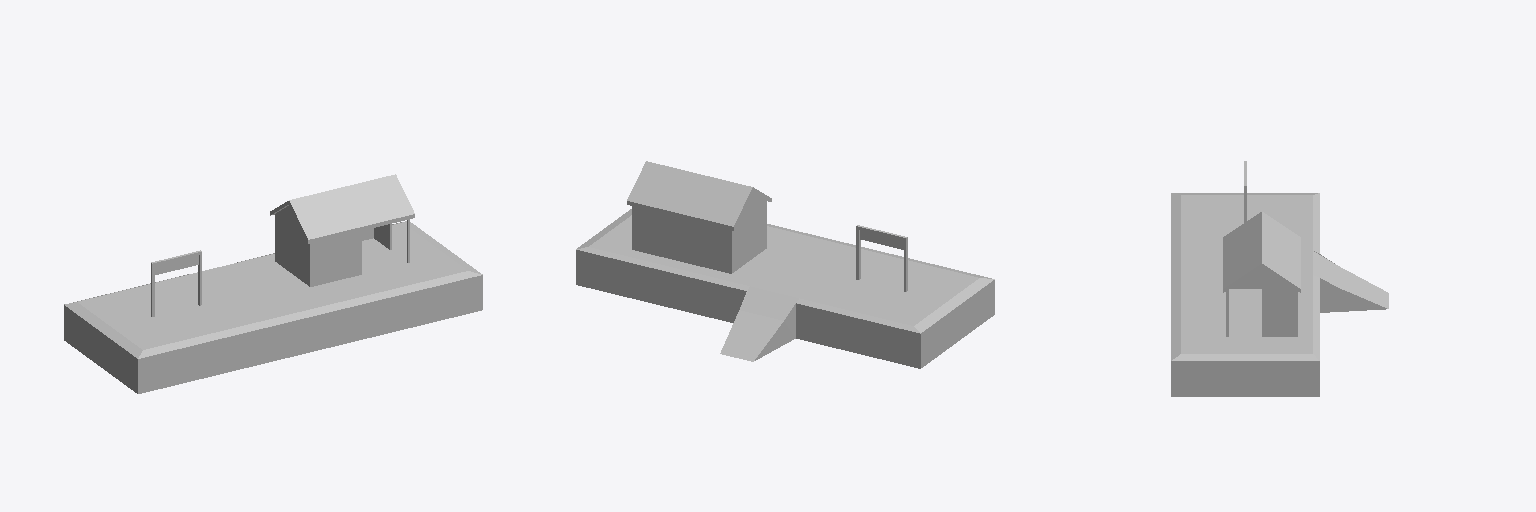
The model's file is platform_1.obj.
The picture shows the model from 3 angles: view 1: azimuth 30°, elevation 25°; view 2: azimuth 150°, elevation 25°; view 3: azimuth 270°, elevation 25°; orthographic projection.
Parts seen in each view (by area): view 1: platform_1; view 2: platform_1; view 3: platform_1.
Boxes of the visible parts, box(x1,y1,x2,y2) form: platform_1: box(64, 174, 482, 393); platform_1: box(576, 161, 994, 368); platform_1: box(1171, 161, 1388, 396).
Size of the model in its own units: 16.53 by 5.17 by 9.05.